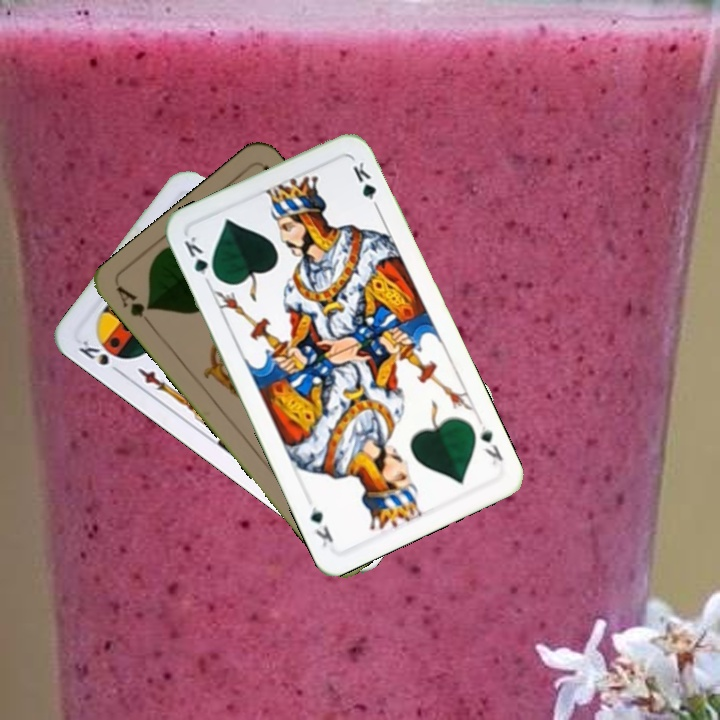GA: (112, 282, 157, 332)
GK: (180, 232, 220, 283), (476, 421, 506, 469)
SK: (74, 336, 126, 378)
